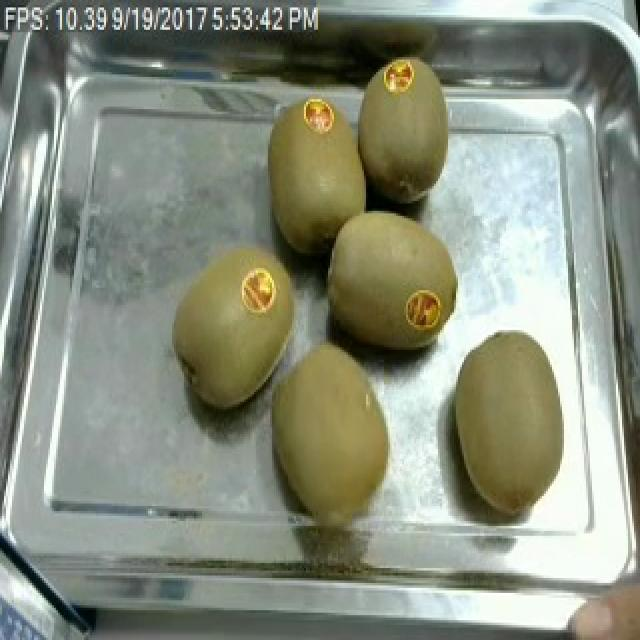Fruit: (256, 328, 402, 518), (162, 226, 306, 417), (442, 327, 576, 521), (316, 201, 466, 362), (256, 84, 378, 263), (356, 44, 460, 216), (556, 563, 640, 640)
